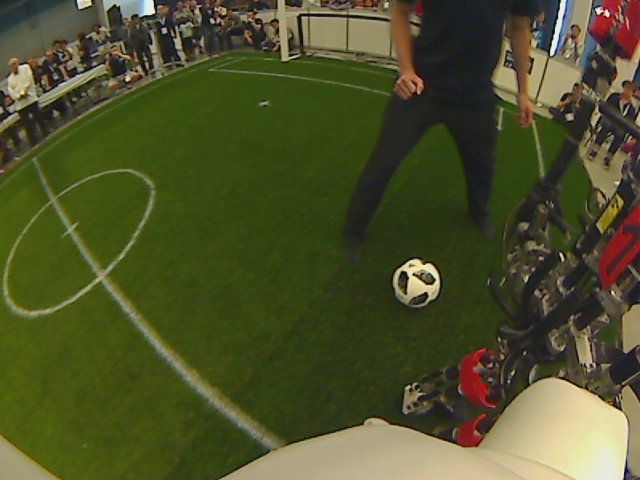ball: (391, 258, 442, 308)
